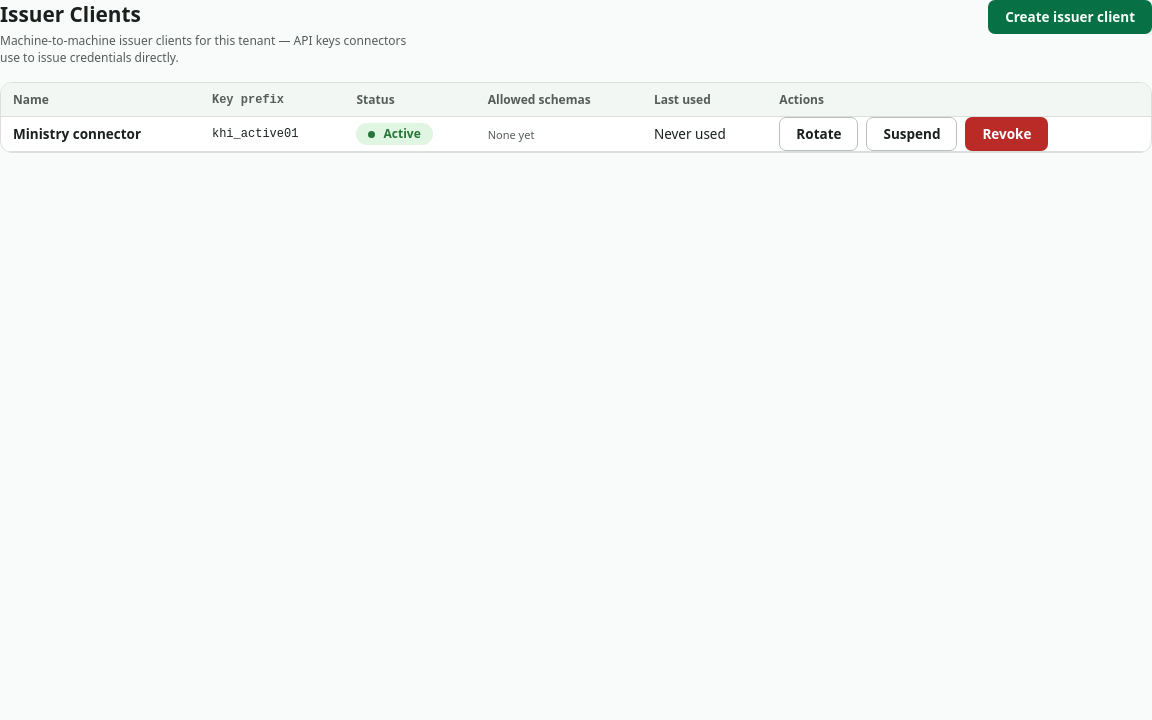
Scenario: ClientsPage — rotate › sends the chosen retire window and shows the retiring note in the reveal dialog
Step 1. Click the button "Rotate" → click(819, 134), box x1=779 y1=117 x2=858 y2=151
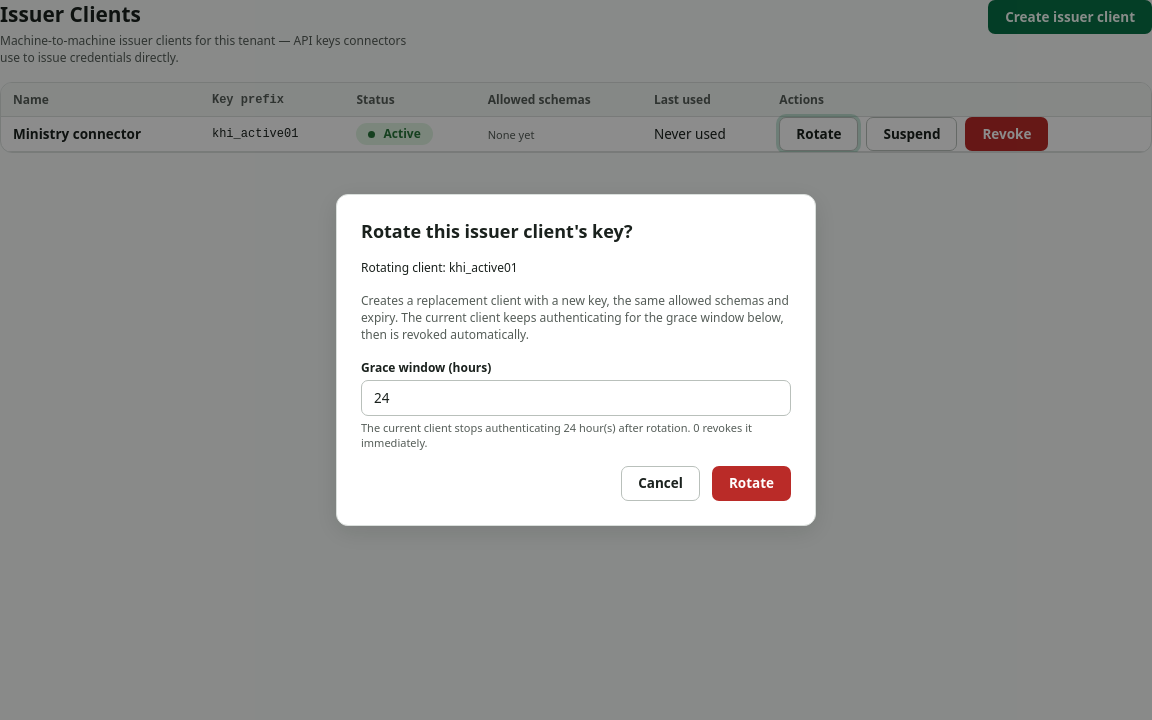
Step 2. Clear the number field labelled "Grace window (hours)" → (576, 398), box x1=361 y1=380 x2=791 y2=416
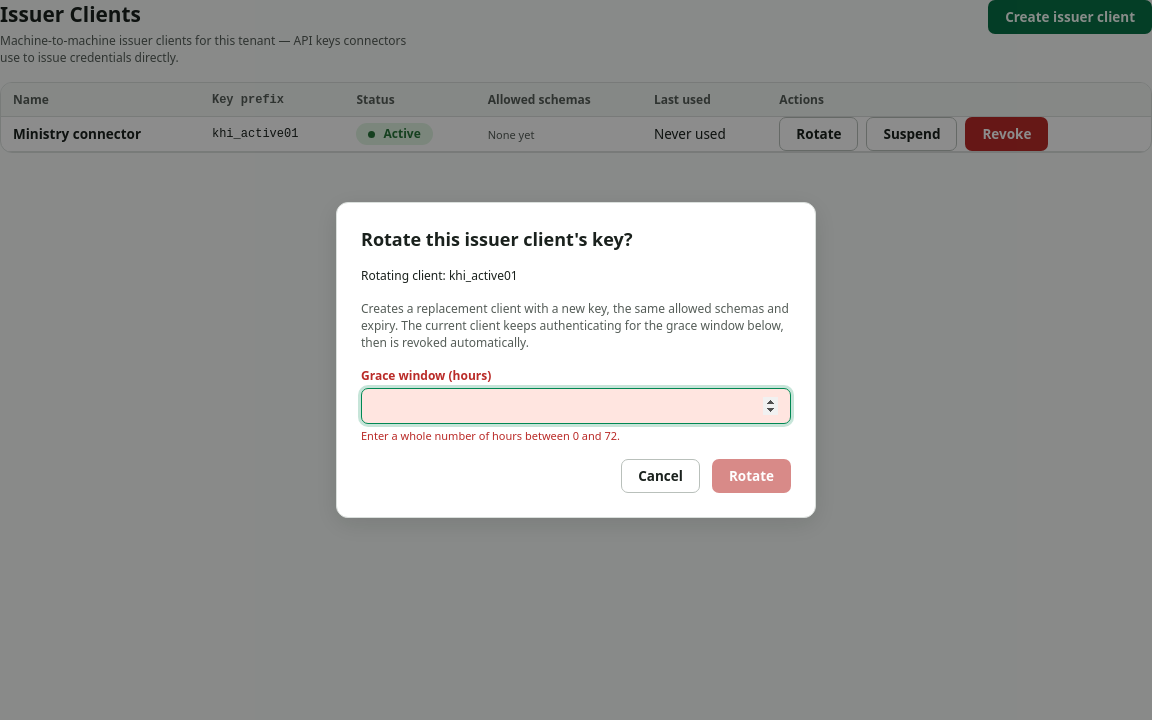
Step 3. Type "0" into the number field labelled "Grace window (hours)" → (576, 406), box x1=361 y1=388 x2=791 y2=424
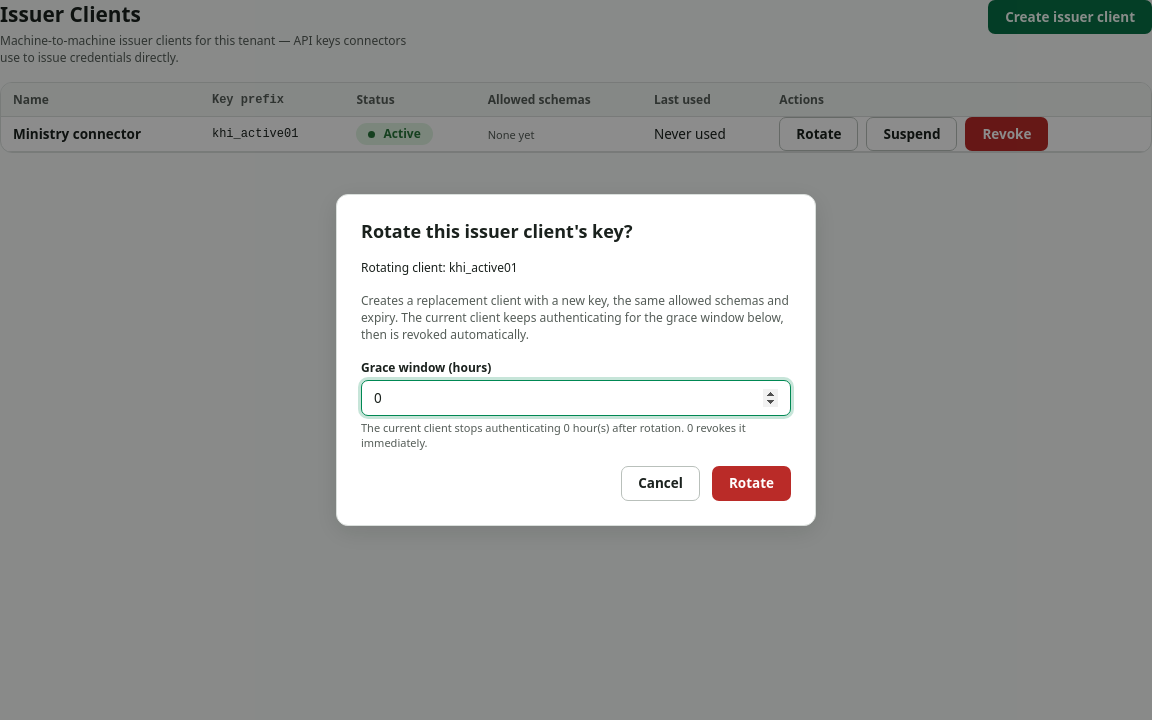
Step 4. Click the button "Rotate" → click(751, 484), box x1=712 y1=466 x2=791 y2=501
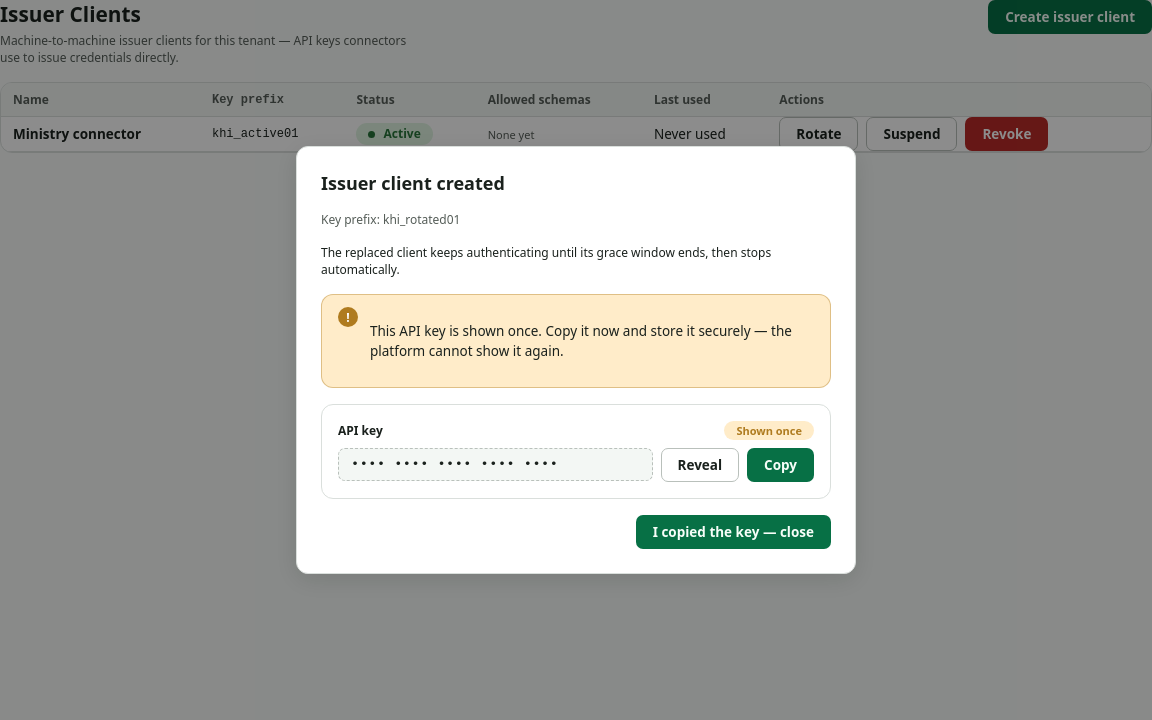
Result: the text "The replaced client keeps authenticating until its grace window ends, then stops automatically." is shown at x1=321 y1=244 x2=771 y2=278
